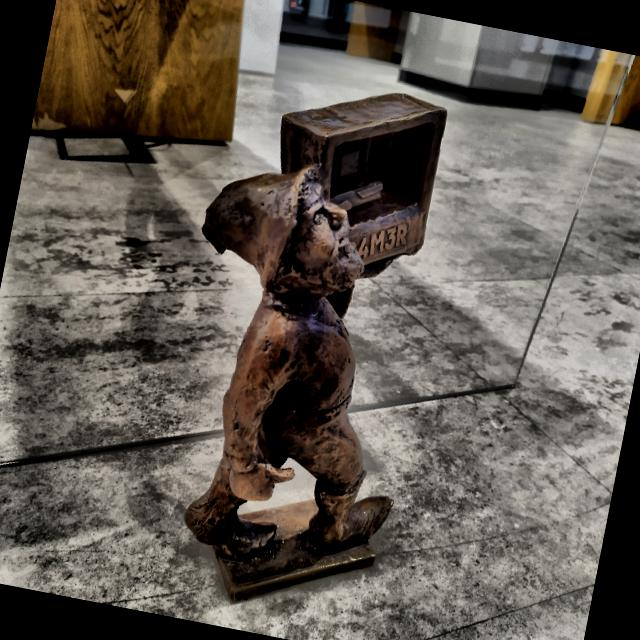GigaHercjusz: (185, 93, 447, 600)
